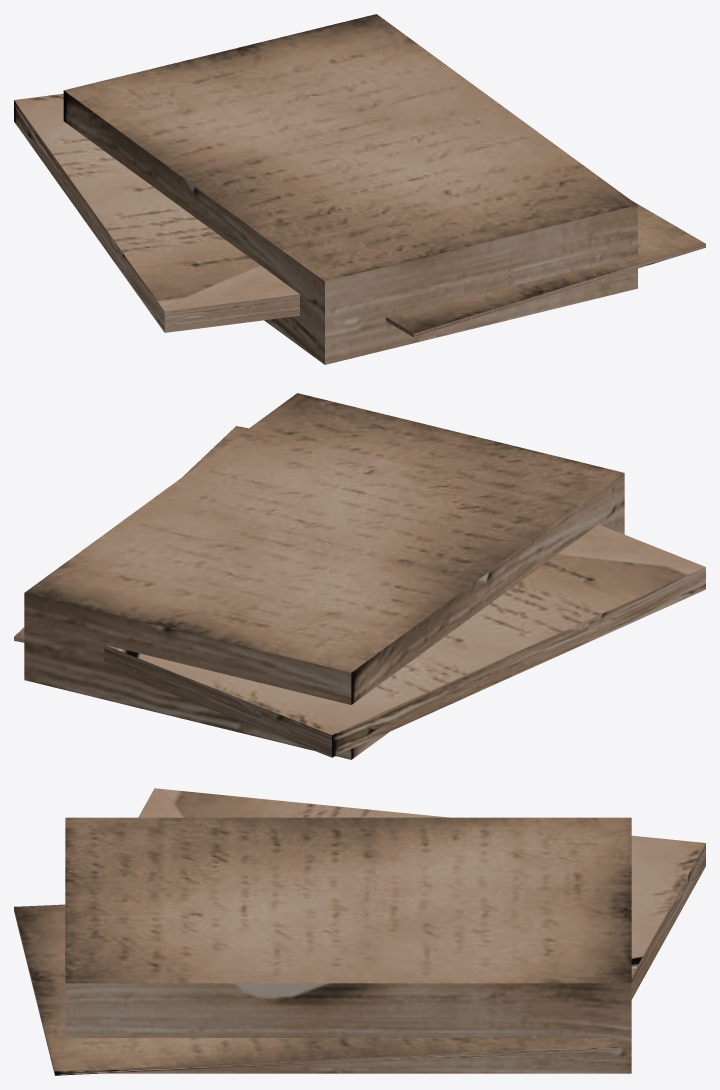
File: stack_sheets.fbx
The picture shows the model from 3 angles, top to bottom: view 1: azimuth 30°, elevation 25°; view 2: azimuth 150°, elevation 25°; view 3: azimuth 270°, elevation 25°; orthographic projection. The views are drawn at different scales.
Parts seen in each view (by area): view 1: Cube; view 2: Cube; view 3: Cube.
Part boxes in pixels (x1,y1,x2,y2): Cube: (14, 14, 705, 364); Cube: (14, 393, 705, 759); Cube: (14, 788, 705, 1075).
Bounding box in the file's own units: 144 × 23.17 × 161.
